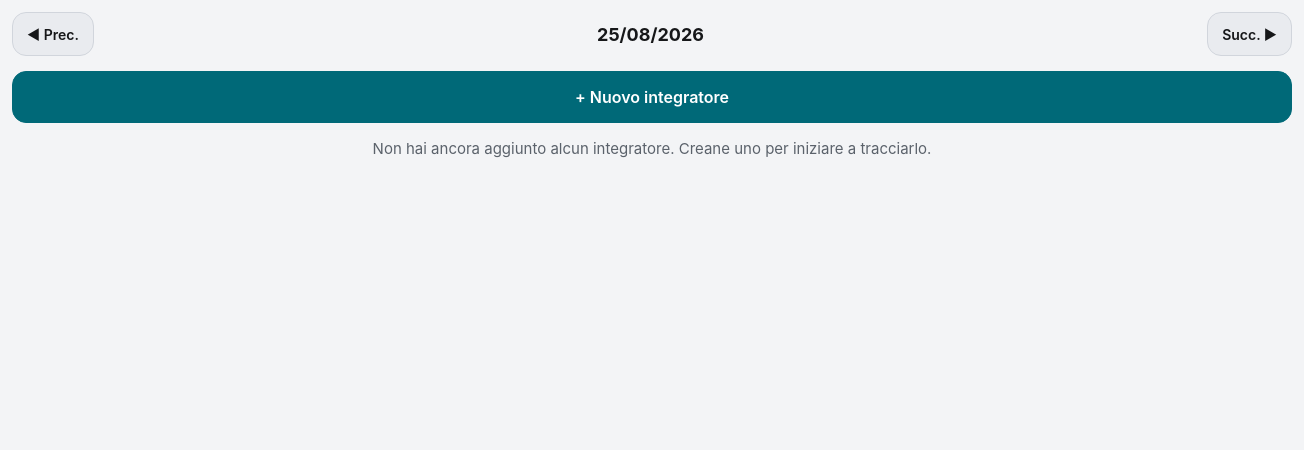
Scenario: EMPIRICAL CHALLENGER: Viewport & Overflow Adversarial Stress Suite (m23_1) › 2. Multi-Item Flex Children minWidth: 0 Defense › 2.2: NutritionSupplements form fields row has flex: 1 and minWidth: 0 on all 3 columns
// Open new supplement modal form
Step 1. Click the button "+ Nuovo integratore" → (652, 97), box [12,71,1292,123]
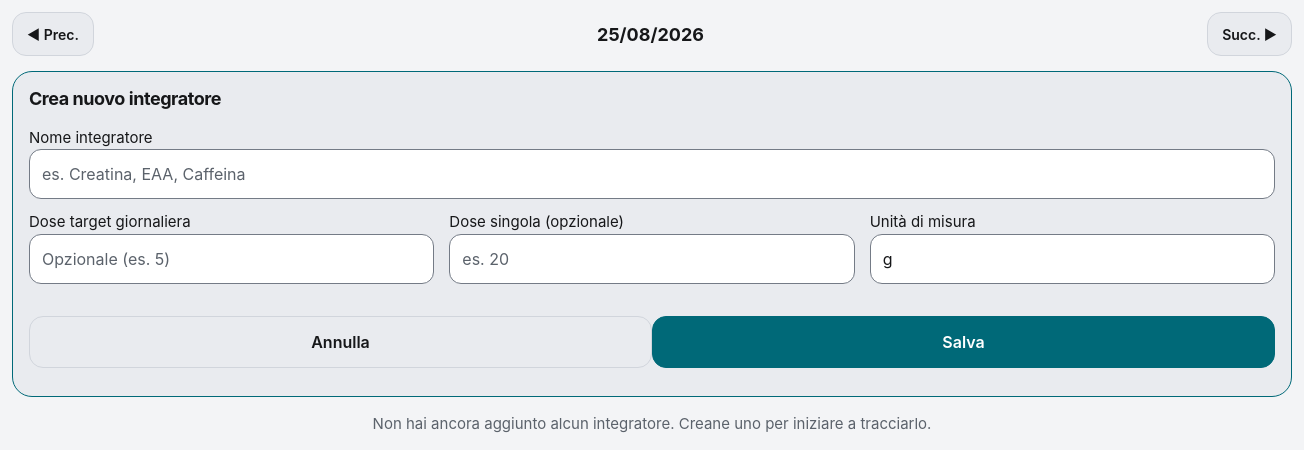
Now the number field with placeholder "Opzionale (es. 5)" is shown, box [29,234,434,284]
Now the number field with placeholder "es. 20" is shown, box [449,234,855,284]
Now the field with placeholder "es. g, mg, cp" is shown, box [870,234,1275,284]
